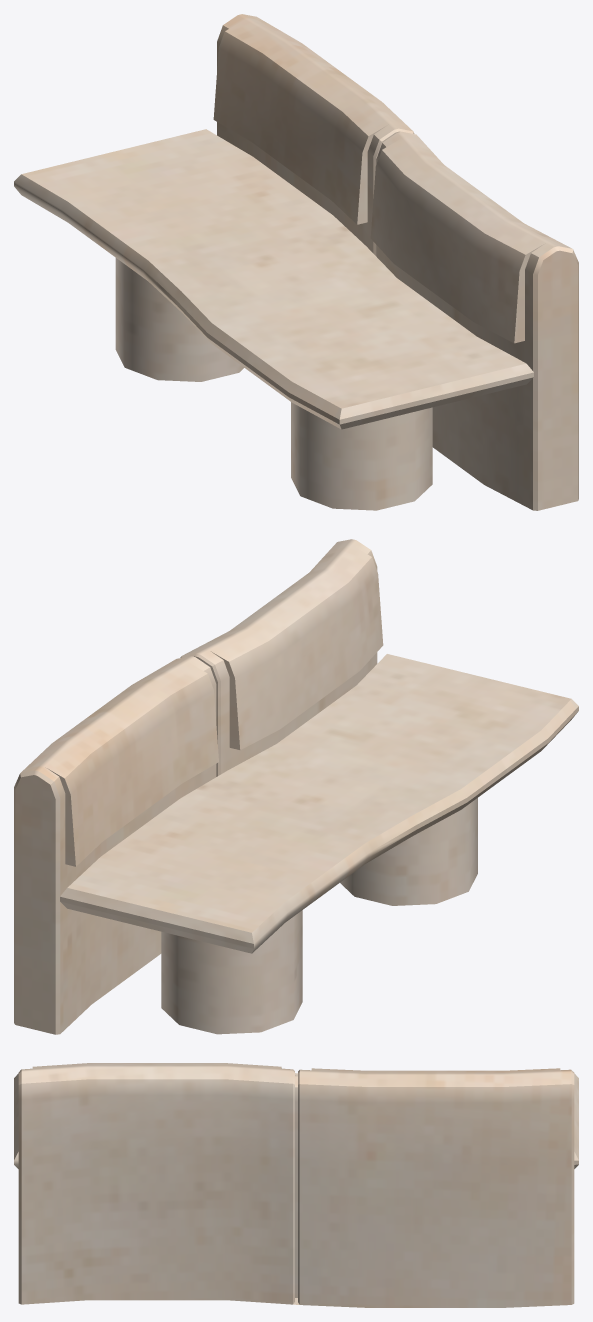
The model's file is BancoCemento.fbx.
3 views of the same model, one above another, from view 1: azimuth 30°, elevation 25°; view 2: azimuth 150°, elevation 25°; view 3: azimuth 270°, elevation 25° (orthographic). The views are drawn at different scales.
Visible parts, largest first — view 1: pCylinder3; view 2: pCylinder3; view 3: pCylinder3.
Part boxes in pixels (x1,y1,x2,y2): pCylinder3: (14,14,578,510); pCylinder3: (14,539,578,1034); pCylinder3: (14,1063,578,1307).
Size of the model in its own units: 84.85 by 80 by 183.
